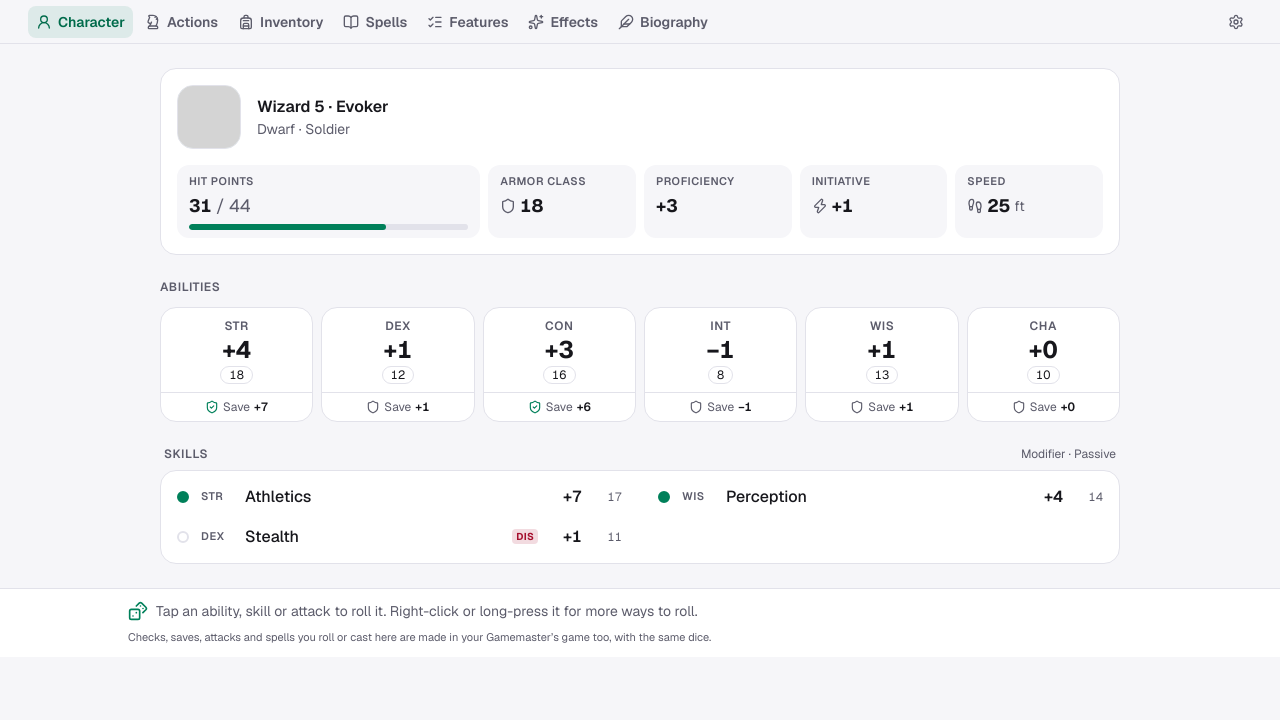
Scenario: enchant activities at the table, from module 0.21.0 › a Flame Tongue's switch › puts it out, with nothing asked, as the switch is turned off
Step 1. Click the tab "Actions" → (182, 22), box [137,6,226,38]
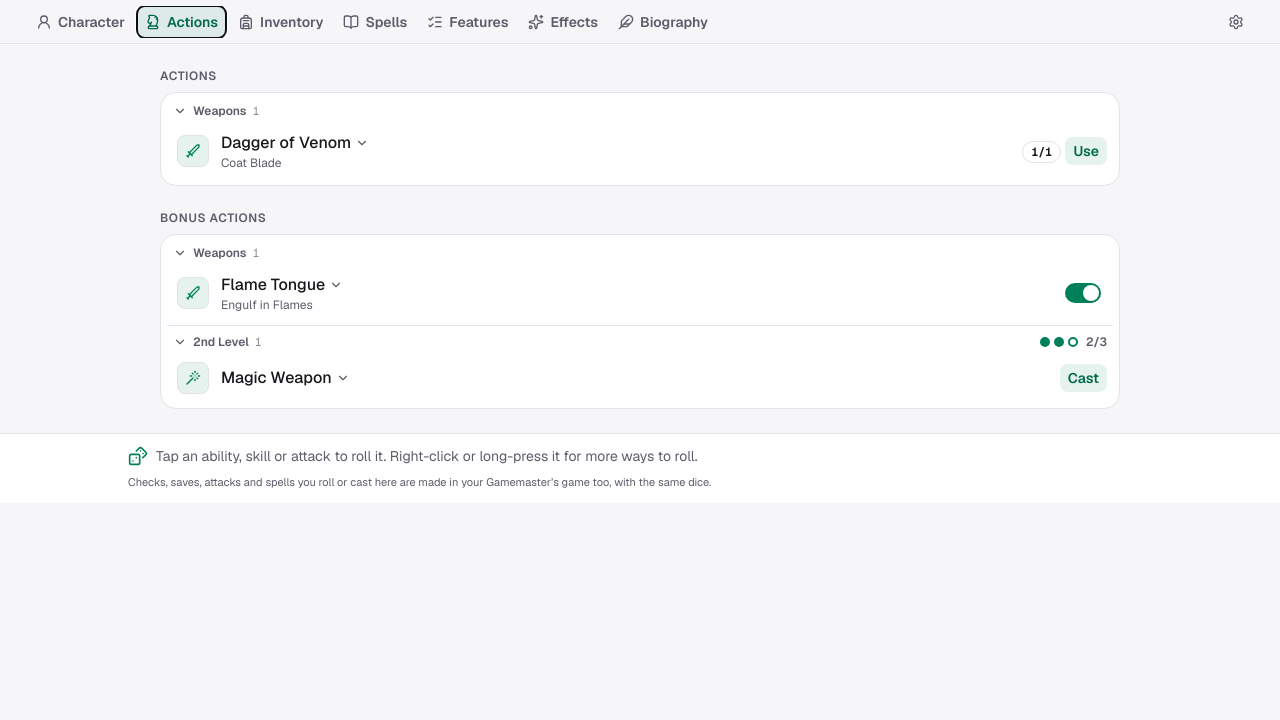
Check: the switch named "Flame Tongue (Engulf in Flames)" is checked
Step 2. Click the switch named "Flame Tongue (Engulf in Flames)" → (1083, 293), box [1059,277,1107,309]
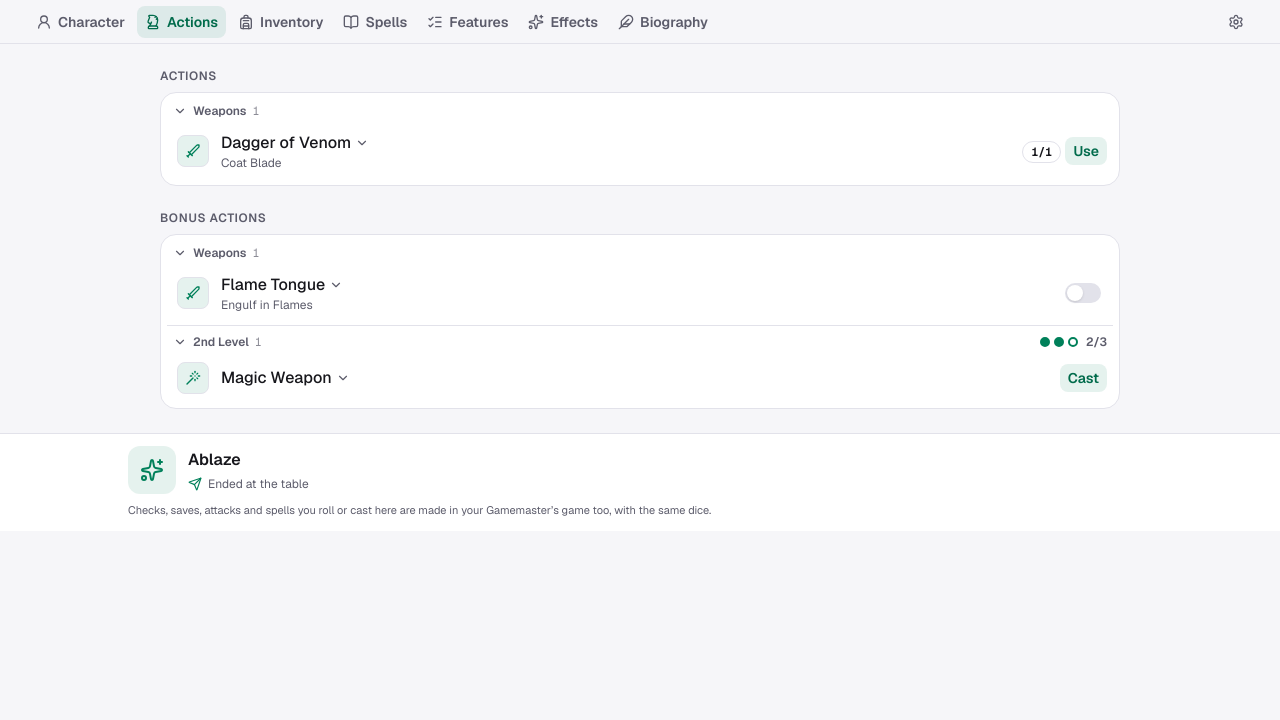
Check: the switch named "Flame Tongue (Engulf in Flames)" is not checked, box [1059,277,1107,309]
Check: the message reads "Ablaze Ended at the table", box [128,446,309,494]
